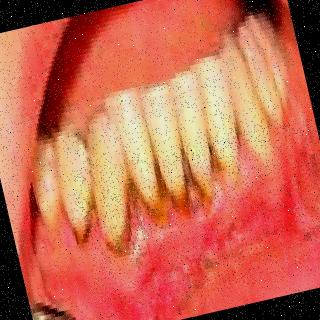calculus: (113, 173, 150, 232), (66, 202, 96, 250), (199, 142, 231, 184), (174, 148, 206, 188), (148, 164, 174, 208)
